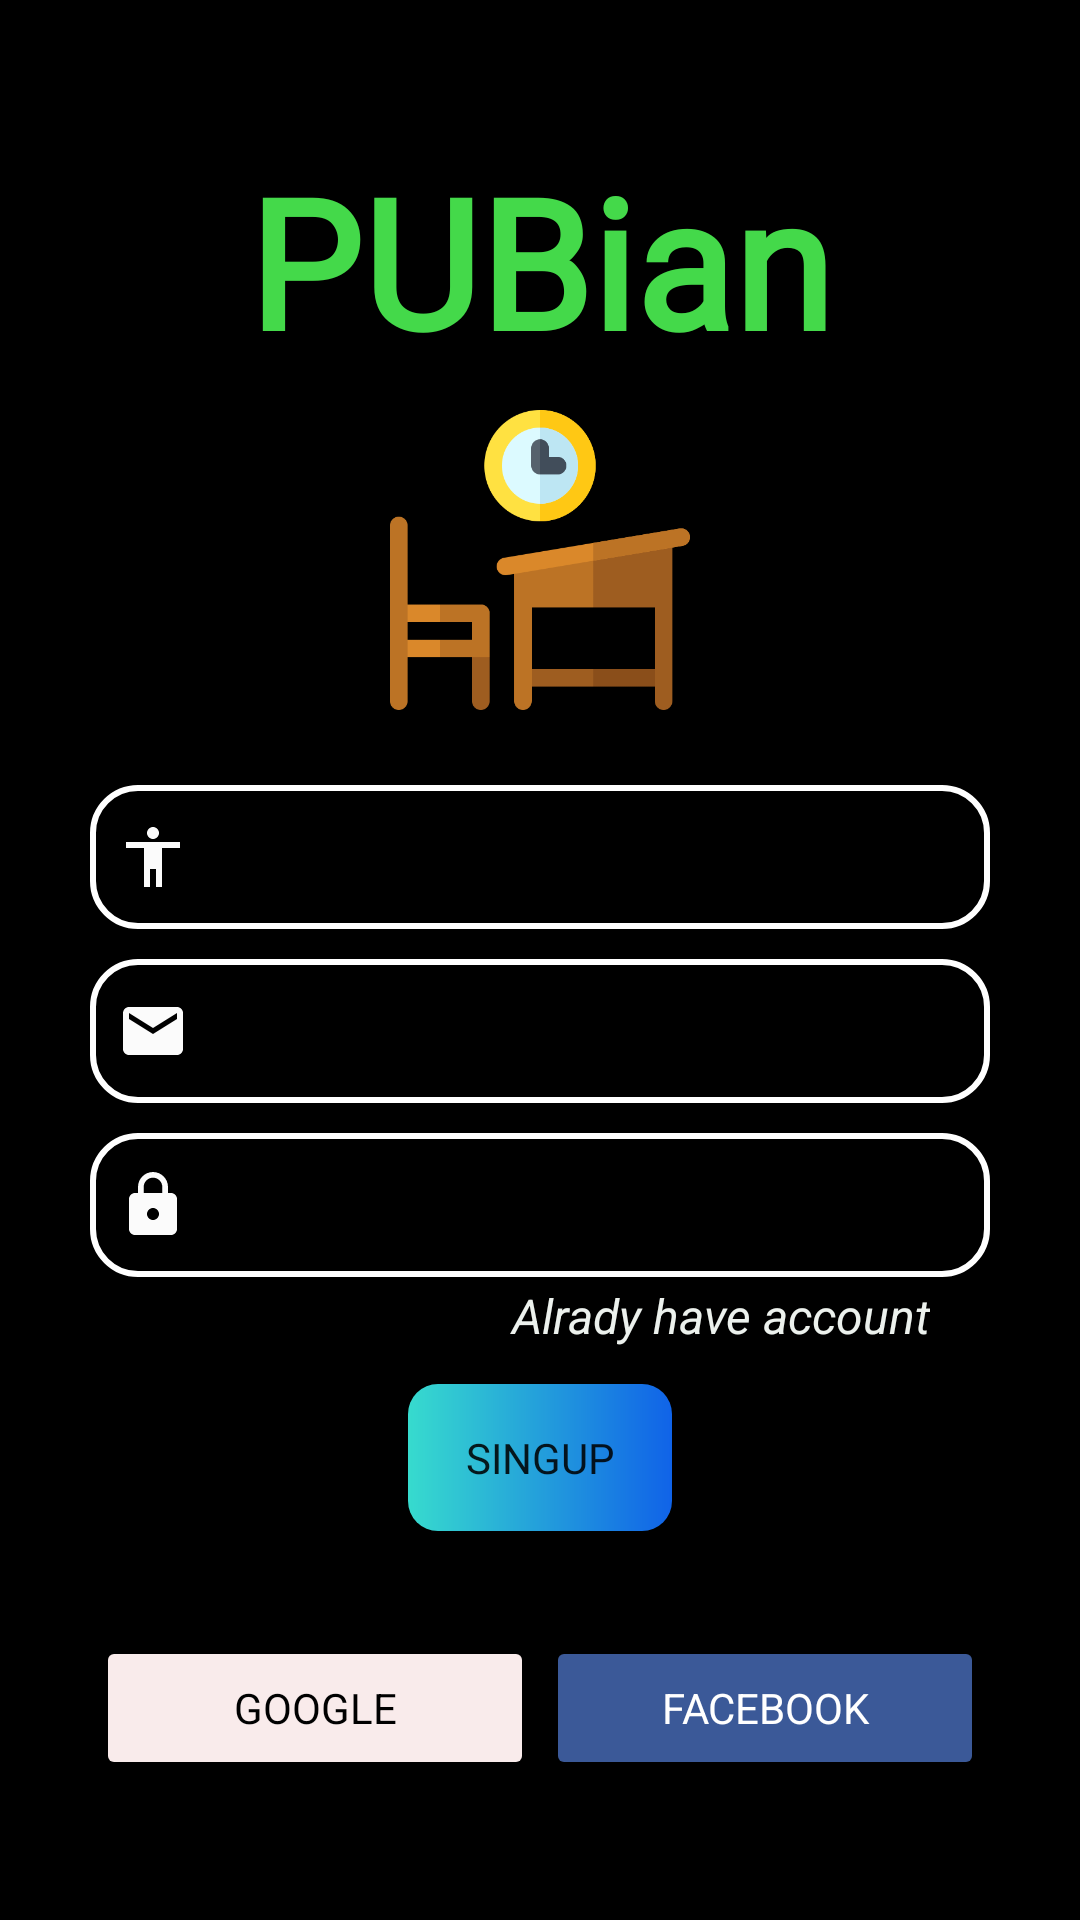

Screen size 1080px×1920px. Icon name, then its box in pixels as box=[x1, y1, x2, y2]:
classroom: box=[390, 410, 690, 710]
